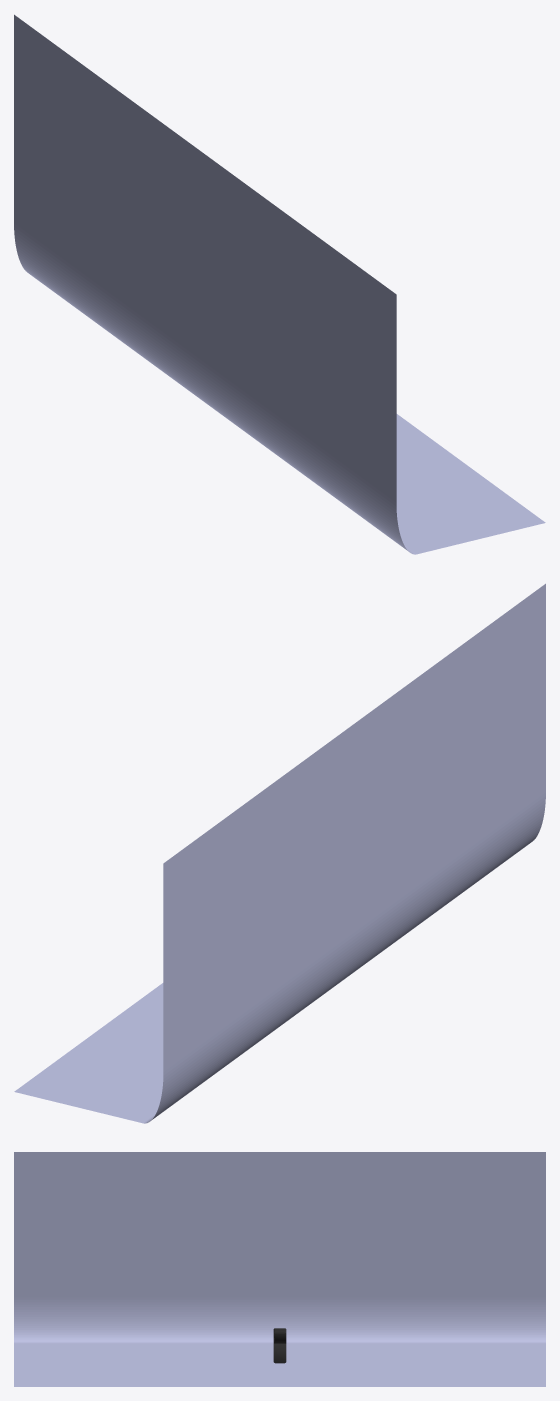
Rendered from fundal3.glb.
The picture shows the model from 3 angles, top to bottom: view 1: azimuth 30°, elevation 25°; view 2: azimuth 150°, elevation 25°; view 3: azimuth 270°, elevation 25°; orthographic projection. The views are drawn at different scales.
Parts seen in each view (by area): view 1: Fundal; view 2: Fundal; view 3: Fundal, Cube.
Boxes of the visible parts, x1,y1,x2,y2 form: Fundal: (14, 14, 545, 554); Fundal: (14, 583, 545, 1123); Fundal: (14, 1152, 545, 1386); Cube: (273, 1328, 286, 1363).
Size of the model in its own units: 13.24 by 22.43 by 58.69.
